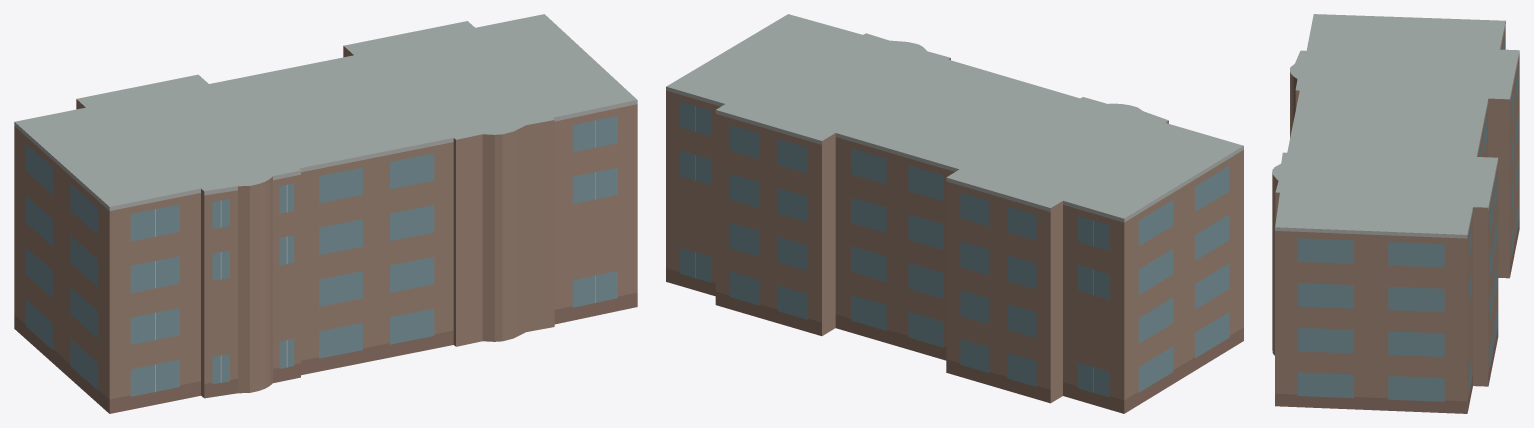
Rendered from survey-upis-32829745.glb.
The picture shows the model from 3 angles, left to right: view 1: azimuth 30°, elevation 25°; view 2: azimuth 150°, elevation 25°; view 3: azimuth 270°, elevation 25°; orthographic projection. The views are drawn at different scales.
Visible parts, largest first — view 1: survey-upis-32829745.tmp; view 2: survey-upis-32829745.tmp; view 3: survey-upis-32829745.tmp.
Part boxes in pixels (<box>): survey-upis-32829745.tmp: <box>14,14,637,413</box>; survey-upis-32829745.tmp: <box>666,14,1243,413</box>; survey-upis-32829745.tmp: <box>1272,14,1519,413</box>.
Bounding box in the file's own units: 32.32 × 12.2 × 15.28.
